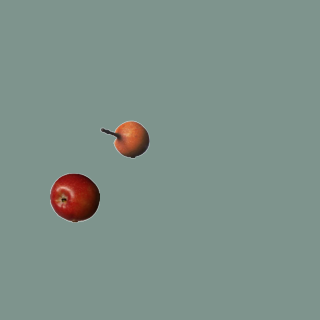Apple Braeburn: (49, 172, 99, 222)
Granadilla: (99, 114, 149, 164)
